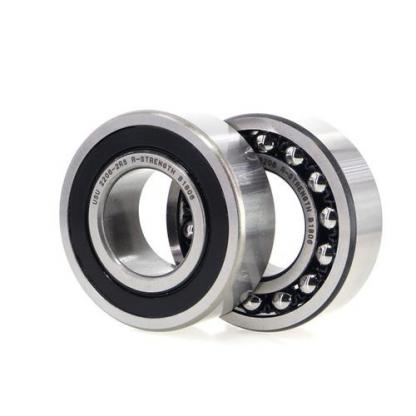FOD: (163, 106, 389, 338), (53, 100, 276, 334)
